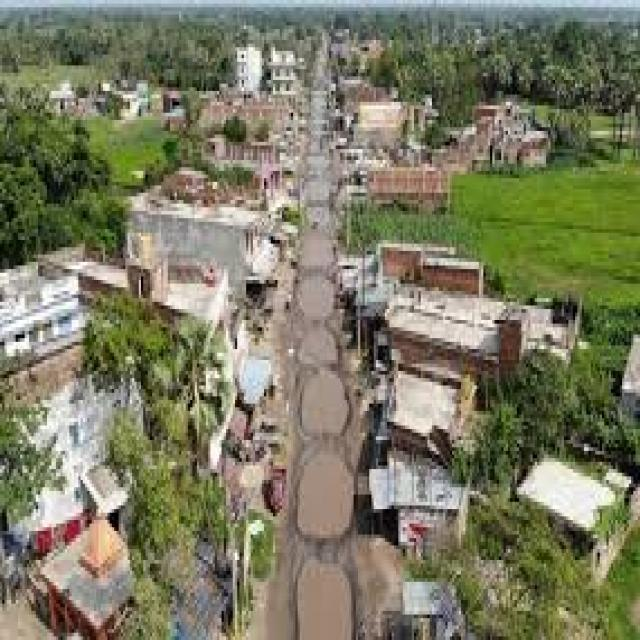Pothole: (295, 455, 354, 538), (295, 560, 354, 640), (300, 375, 347, 436), (300, 276, 331, 316), (304, 331, 336, 364)
